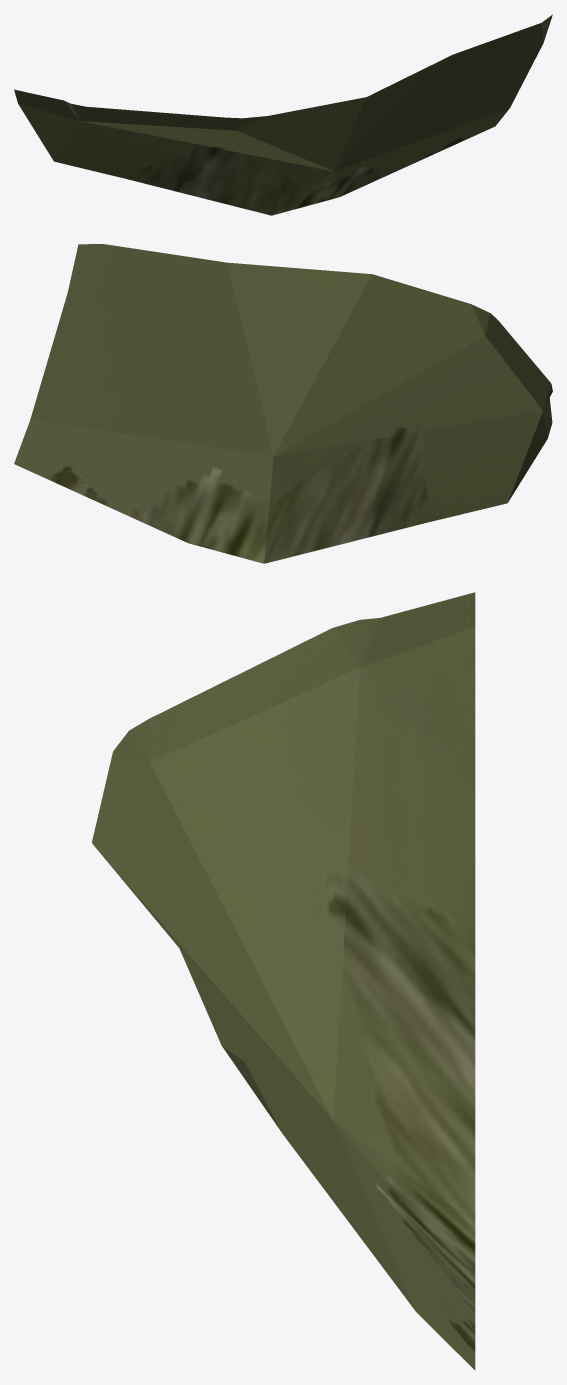
3 renders of one model, top to bottom at view 1: azimuth 30°, elevation 25°; view 2: azimuth 150°, elevation 25°; view 3: azimuth 270°, elevation 25°, orthographic. The views are drawn at different scales.
Bounding box in the file's own units: 2.83 × 1.06 × 0.9772.
1 material, 1 textured.
